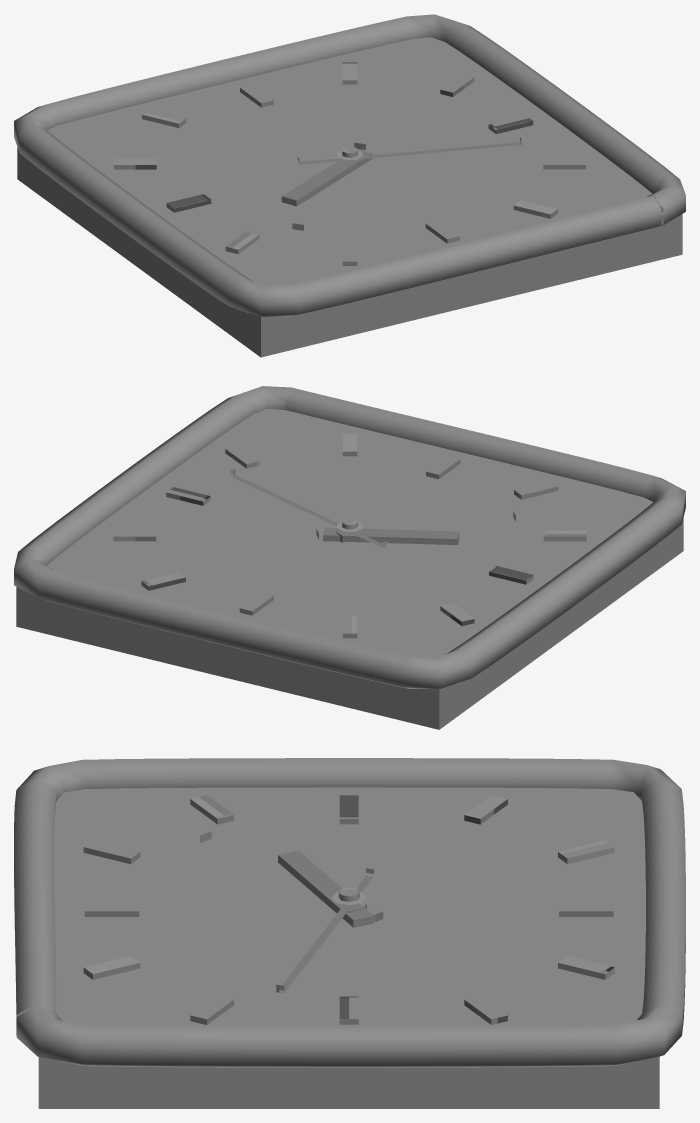
3 renders of one model, top to bottom at view 1: azimuth 30°, elevation 25°; view 2: azimuth 150°, elevation 25°; view 3: azimuth 270°, elevation 25°, orthographic. The views are drawn at different scales.
Bounding box in the file's own units: 0.321 × 0.045 × 0.3202.
